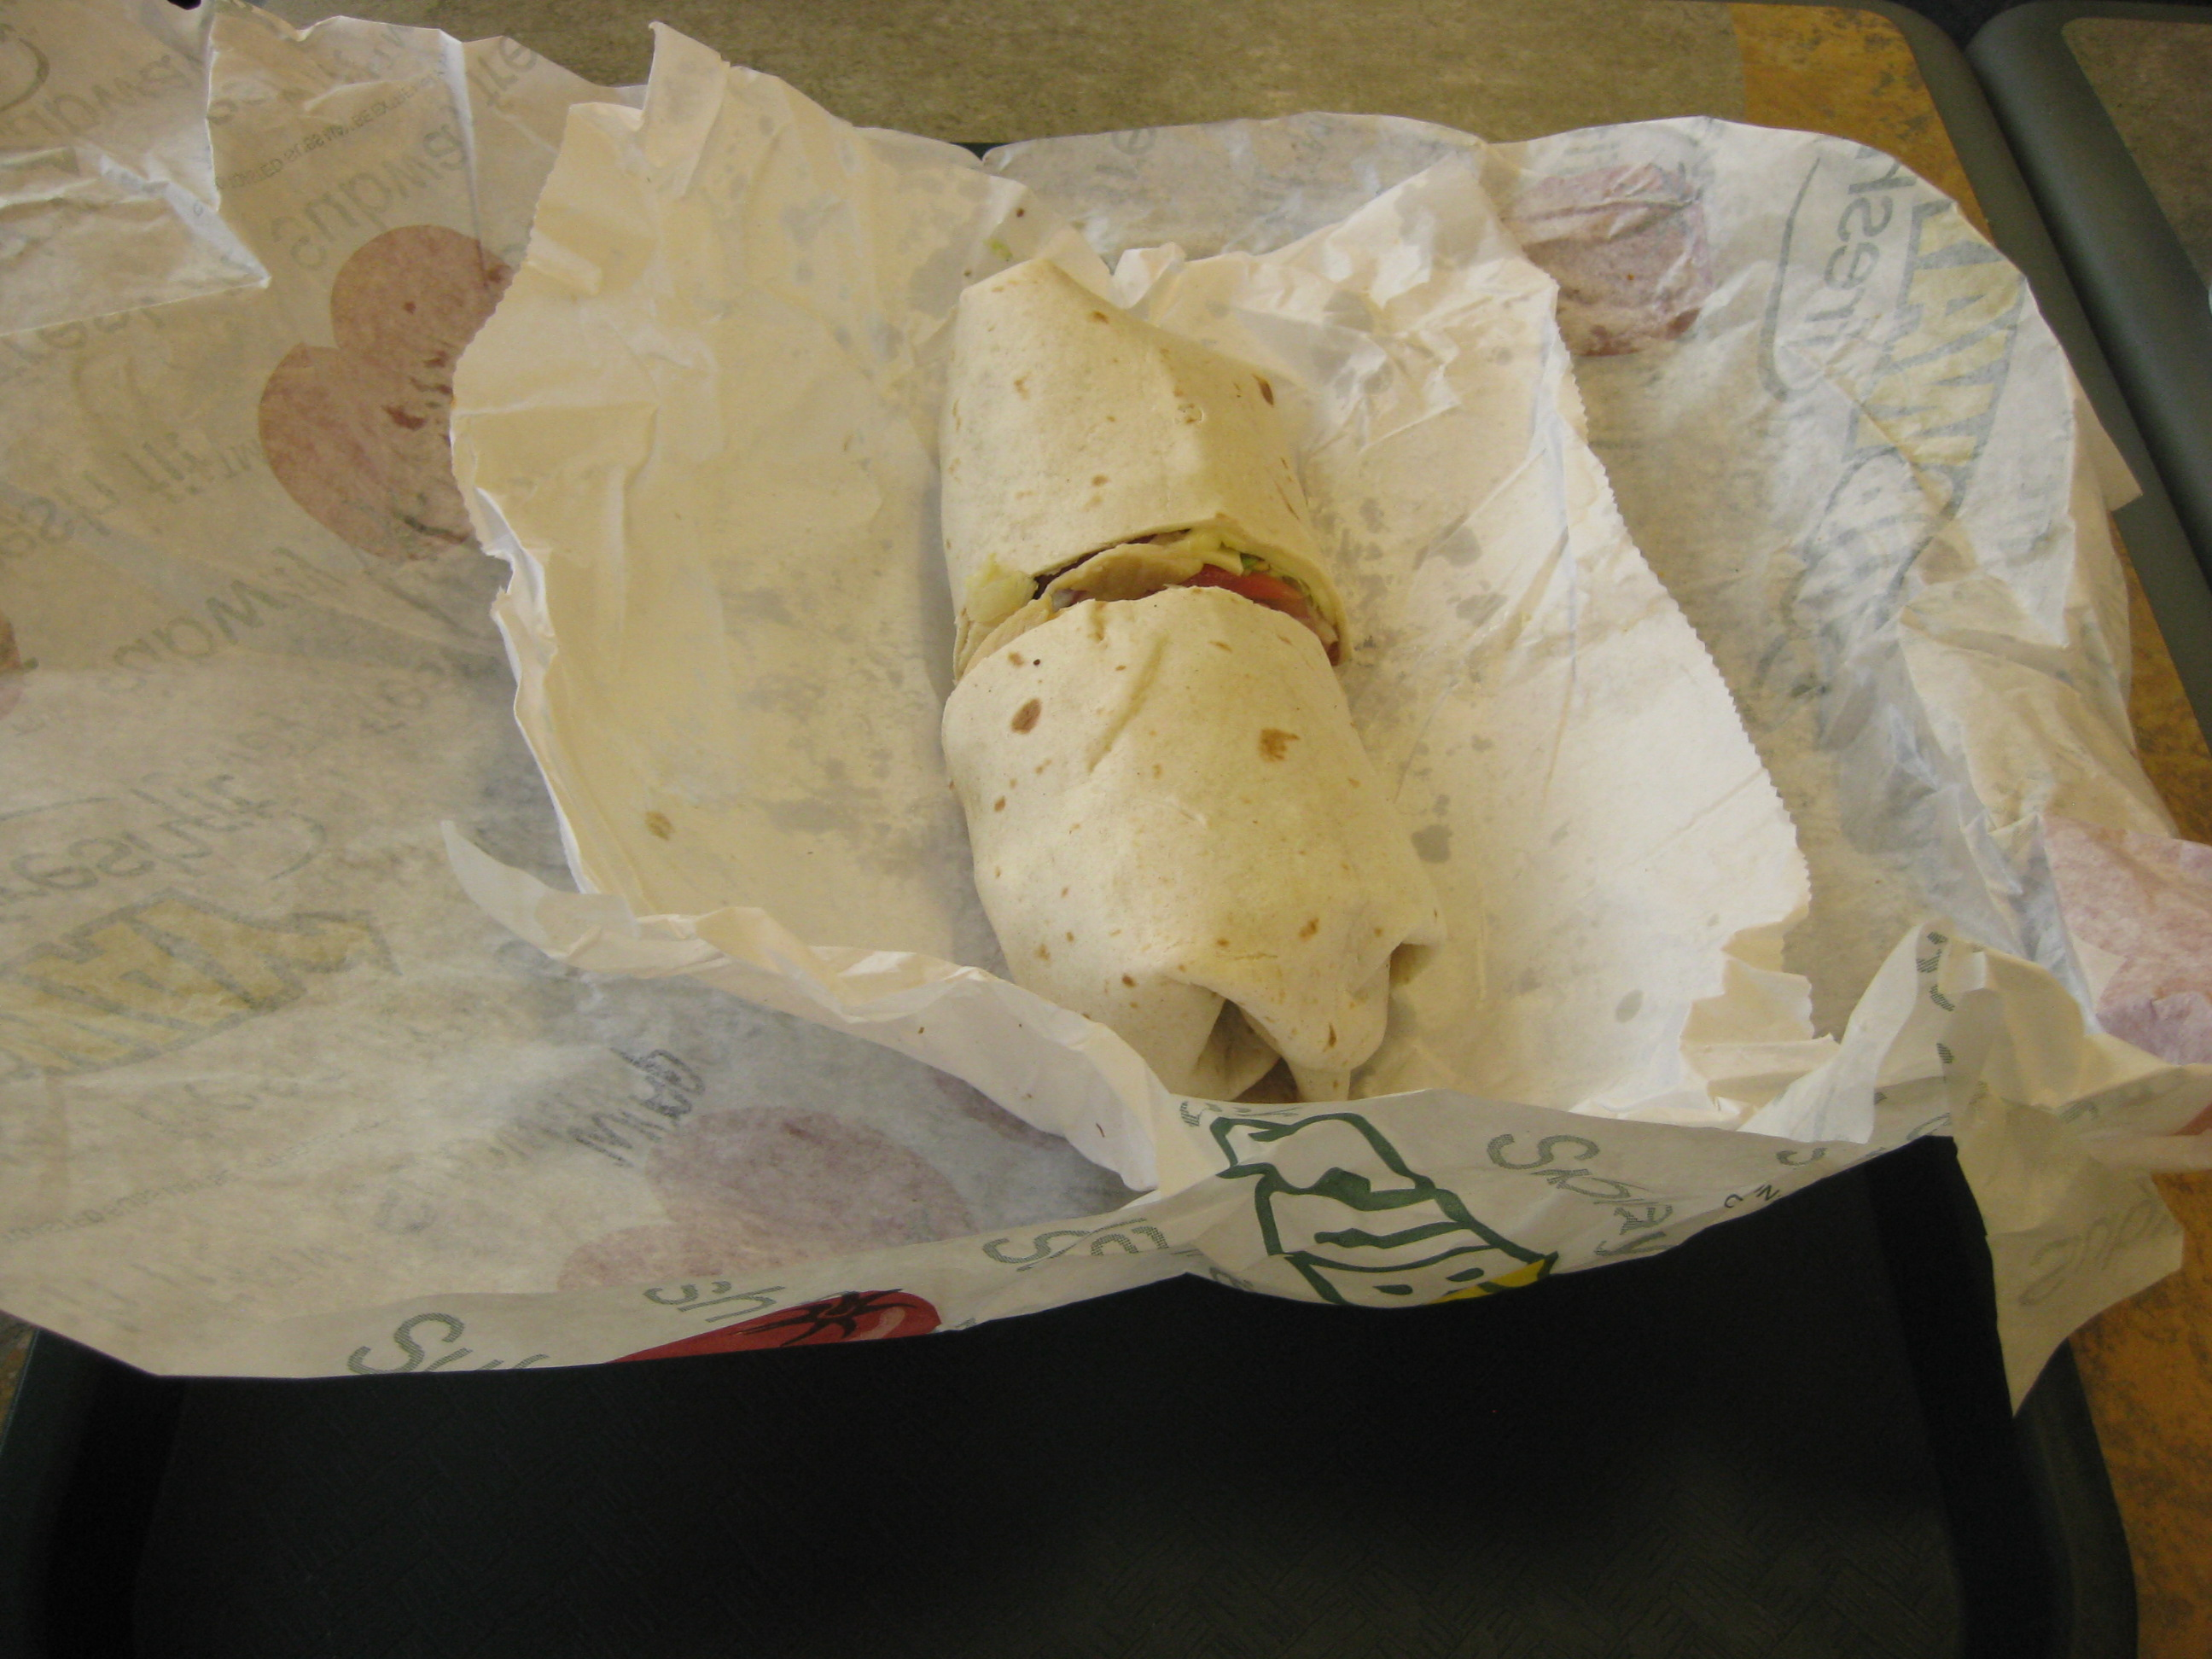burrito: (924, 231, 1468, 1129)
